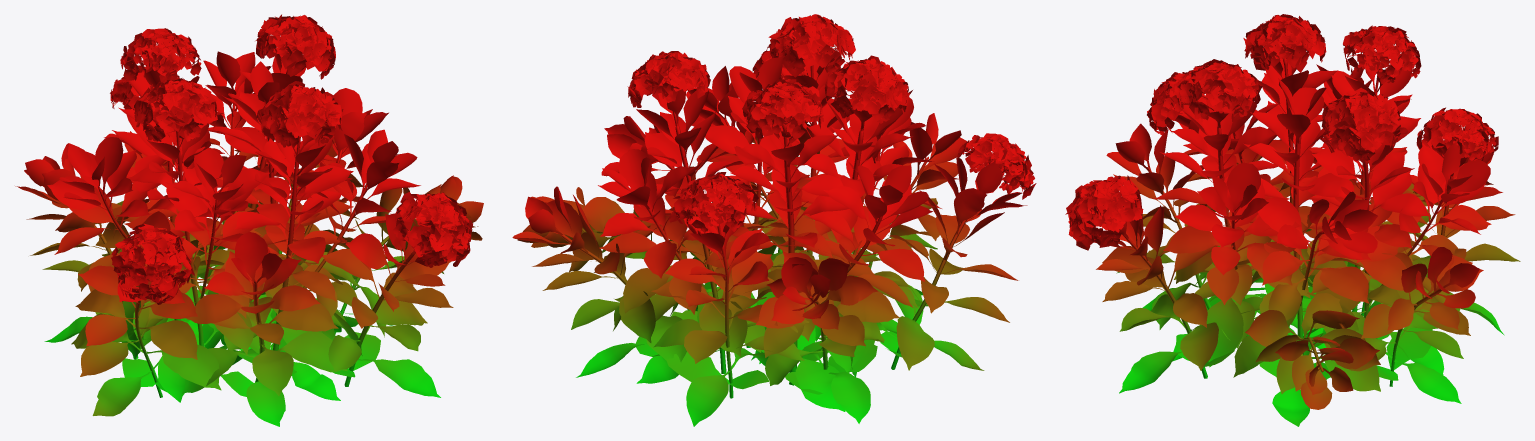
The model's file is Var5_LOD0.fbx.
3 renders of one model, left to right at view 1: azimuth 30°, elevation 25°; view 2: azimuth 150°, elevation 25°; view 3: azimuth 270°, elevation 25°, orthographic. The views are drawn at different scales.
Parts seen in each view (by area): view 1: _xxsu_Var5_LOD0; view 2: _xxsu_Var5_LOD0; view 3: _xxsu_Var5_LOD0.
Part boxes in pixels (box(x1,y1,x2,y2)): _xxsu_Var5_LOD0: box(15, 14, 483, 426); _xxsu_Var5_LOD0: box(512, 14, 1036, 426); _xxsu_Var5_LOD0: box(1065, 14, 1520, 426).
Size of the model in its own units: 131 by 88.55 by 120.
